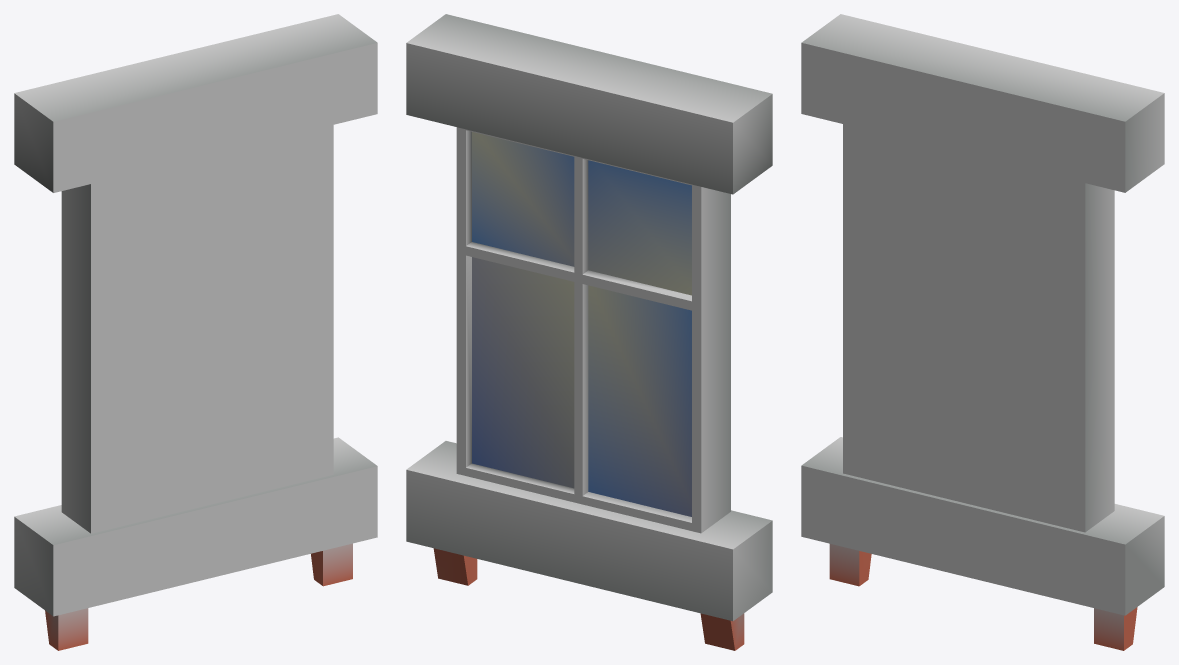
File: okno.fbx
3 renders of one model, left to right at view 1: azimuth 30°, elevation 25°; view 2: azimuth 150°, elevation 25°; view 3: azimuth 330°, elevation 25°, orthographic.
Parts seen in each view (by area): view 1: Cube.001; view 2: Cube.001; view 3: Cube.001.
Boxes of the visible parts, x1=… form: Cube.001: x1=14, y1=14, x2=377, y2=650; Cube.001: x1=406, y1=14, x2=772, y2=650; Cube.001: x1=801, y1=14, x2=1164, y2=650.
Size of the model in its own units: 186 by 297 by 39.04.
